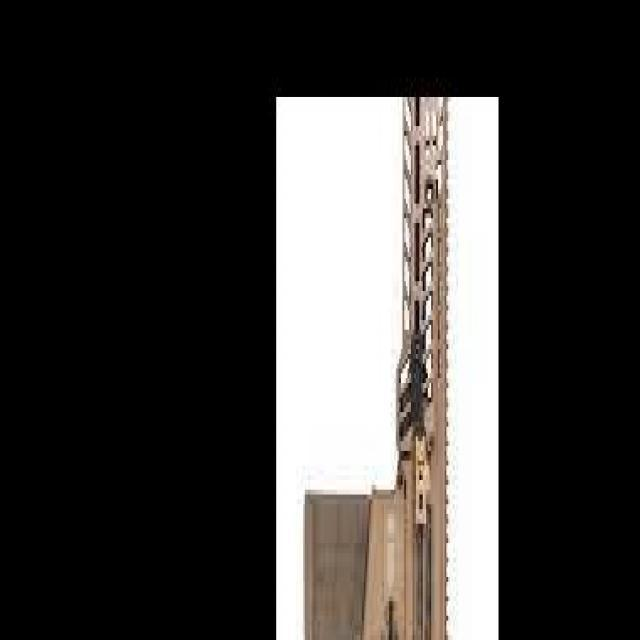weapon: (304, 97, 452, 640)
